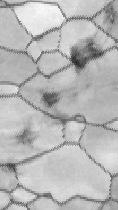good_void: (68, 34, 110, 78), (37, 86, 66, 111), (16, 125, 41, 148), (99, 0, 118, 30), (6, 159, 20, 175)
